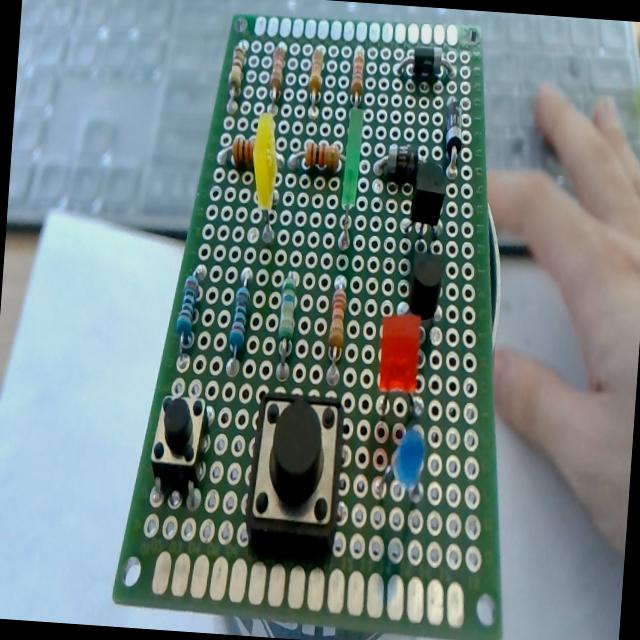diode: (389, 38, 459, 87), (369, 134, 432, 186), (440, 91, 470, 180)
led: (363, 304, 430, 446), (328, 102, 372, 256), (246, 112, 287, 242)
resistor: (166, 250, 218, 371), (220, 265, 256, 384), (268, 268, 304, 385), (319, 272, 352, 382), (288, 138, 346, 176), (212, 128, 255, 173), (224, 35, 248, 115), (302, 40, 328, 112), (345, 41, 370, 110), (264, 41, 288, 109)
switch: (232, 382, 351, 568), (136, 386, 217, 496)
transistor: (394, 239, 452, 335), (404, 157, 449, 245)
